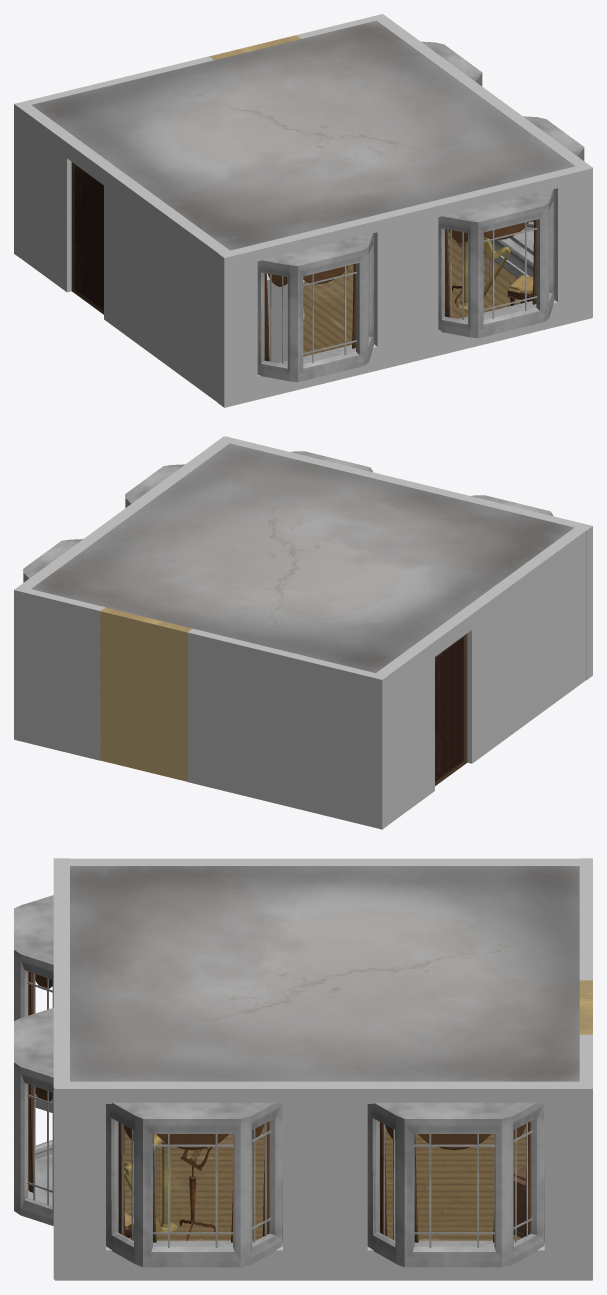
File: musicRoom_trish.fbx
3 renders of one model, top to bottom at view 1: azimuth 30°, elevation 25°; view 2: azimuth 150°, elevation 25°; view 3: azimuth 270°, elevation 25°, orthographic. The views are drawn at different scales.
Parts seen in each view (by area): view 1: ceiling, wall04, wall01, window (×4), floor, polySurface19, wall03, wall02, polySurface22, harp, frame02, harp_stool (+1 smaller); view 2: ceiling, wall02, wall01, pasted__wall, polySurface19, wall04, wall03, window (×2); view 3: ceiling, wall03, window (×4), floor, wall01, wall04, wall02, polySurface4 (×2), harp, music_sheet_cabinet, music_stand, pasted__wall (+1 smaller).
Boxes of the visible parts, left/top/right/bottom form: ceiling: left=32, top=21, right=574, bottom=250; wall04: left=218, top=164, right=591, bottom=407; wall01: left=15, top=101, right=235, bottom=402; window (×4): left=257, top=41, right=584, bottom=382; floor: left=303, top=229, right=532, bottom=356; polySurface19: left=71, top=162, right=103, bottom=314; wall03: left=372, top=14, right=592, bottom=317; wall02: left=14, top=14, right=385, bottom=257; polySurface22: left=267, top=282, right=287, bottom=362; harp: left=455, top=235, right=510, bottom=309; frame02: left=489, top=238, right=533, bottom=272; harp_stool: left=507, top=275, right=533, bottom=305; ceiling: left=31, top=443, right=573, bottom=673; wall02: left=15, top=586, right=387, bottom=829; wall01: left=371, top=523, right=591, bottom=825; pasted__wall: left=100, top=607, right=192, bottom=781; polySurface19: left=435, top=633, right=467, bottom=785; wall04: left=221, top=436, right=592, bottom=680; wall03: left=14, top=436, right=234, bottom=739; window (×2): left=23, top=464, right=184, bottom=582; ceiling: left=70, top=866, right=579, bottom=1081; wall03: left=55, top=1081, right=592, bottom=1280; window (×4): left=14, top=895, right=544, bottom=1267; floor: left=123, top=1124, right=526, bottom=1240; wall01: left=55, top=858, right=592, bottom=865; wall04: left=53, top=858, right=69, bottom=1279; wall02: left=579, top=858, right=592, bottom=1279; polySurface4 (×2): left=156, top=1134, right=490, bottom=1150; harp: left=123, top=1134, right=177, bottom=1232; music_sheet_cabinet: left=513, top=1166, right=526, bottom=1237; music_stand: left=179, top=1147, right=215, bottom=1240; pasted__wall: left=579, top=980, right=592, bottom=1034.
Size of the model in its own units: 6954 by 2528 by 6899.
